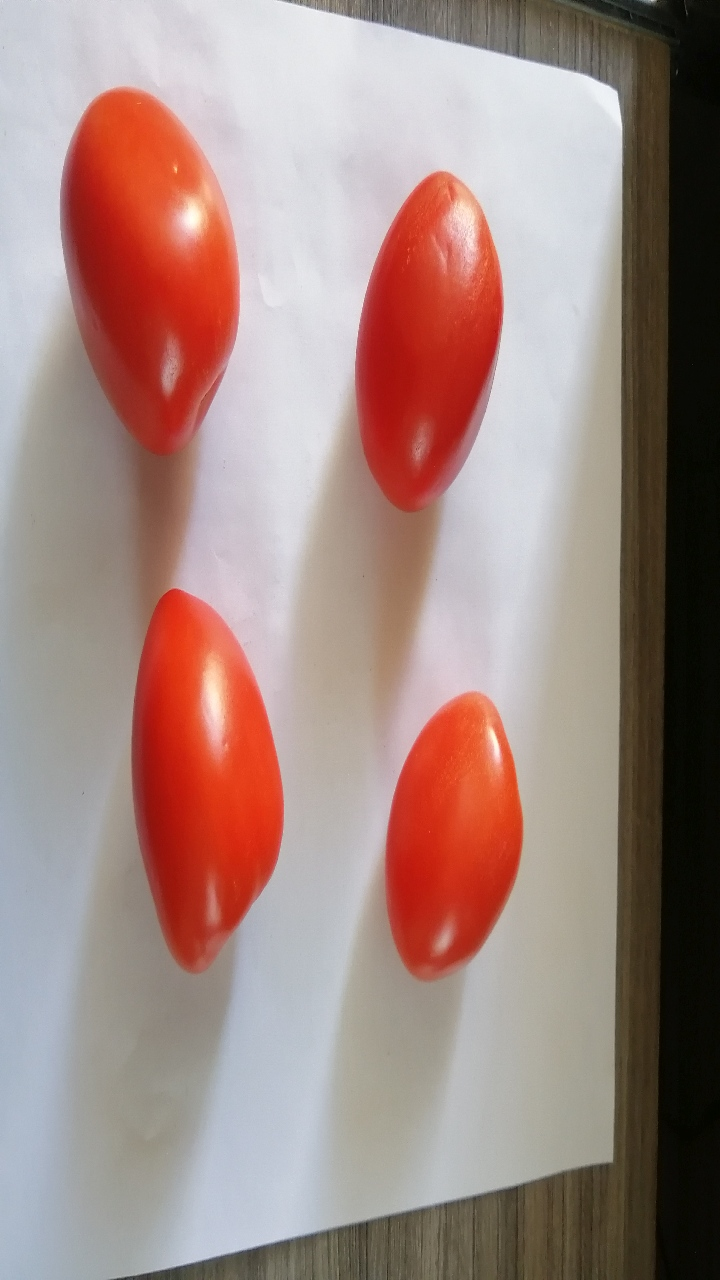tomateRojo: (37, 63, 244, 492), (108, 566, 300, 992), (335, 137, 538, 531), (363, 655, 529, 1009)
